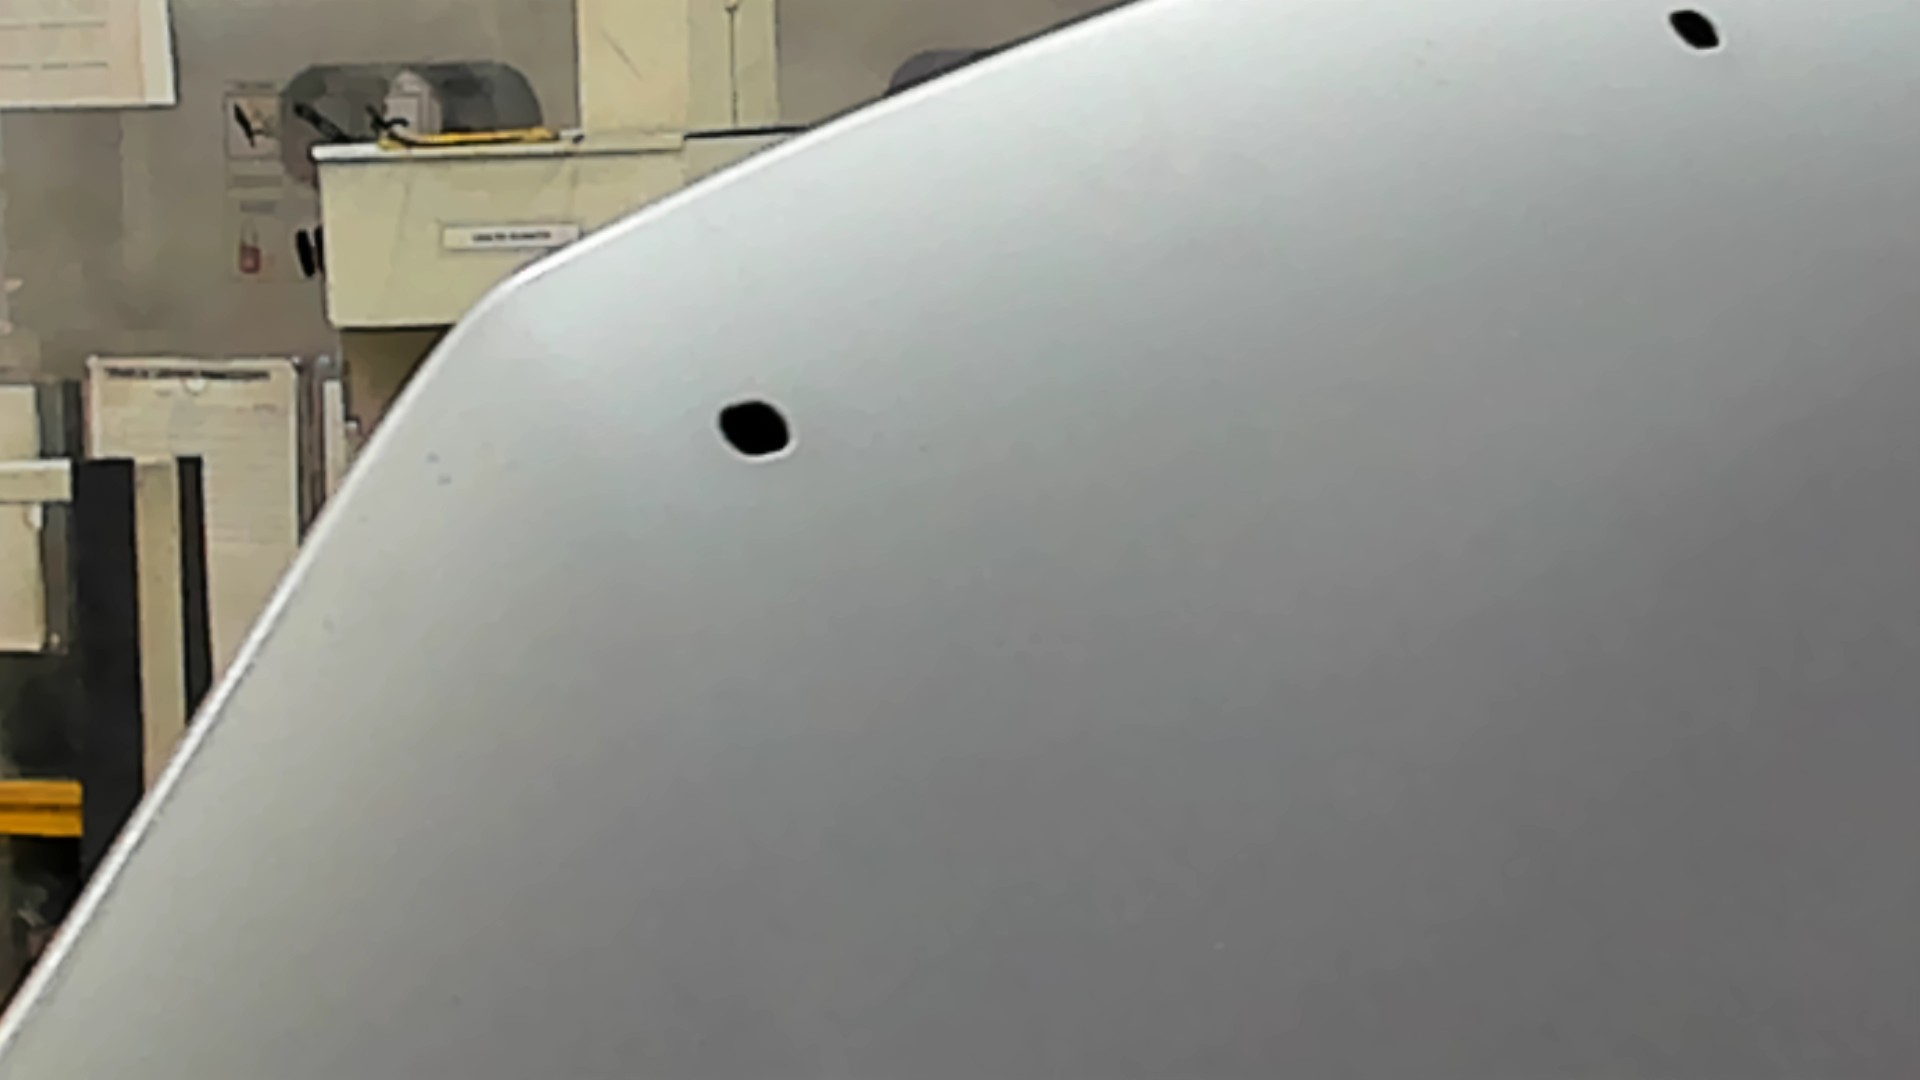Agujero: (712, 397, 796, 462), (1663, 7, 1724, 55)
